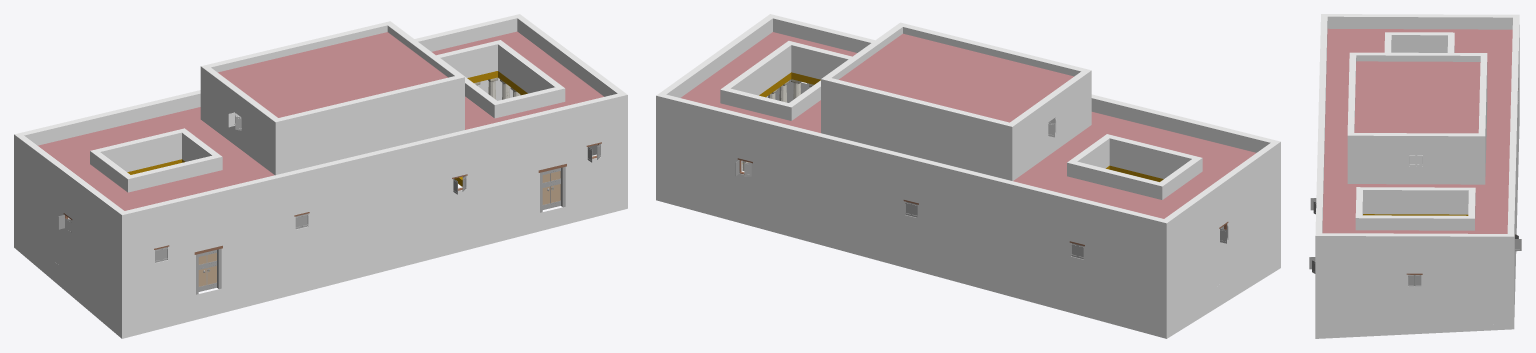
The model's file is LOD_Block_2_45.glb.
3 views of the same model, side by side, from view 1: azimuth 30°, elevation 25°; view 2: azimuth 150°, elevation 25°; view 3: azimuth 270°, elevation 25° (orthographic). The views are drawn at different scales.
Parts seen in each view (by area): view 1: _1.3328; view 2: _1.3328; view 3: _1.3328.
Boxes of the visible parts, box(x1,y1,x2,y2) form: _1.3328: box(14, 14, 627, 338); _1.3328: box(656, 14, 1280, 338); _1.3328: box(1309, 14, 1521, 338).
Bounding box in the file's own units: 40.03 × 12.28 × 15.97.
Materials: 3 (3 with a texture image).
